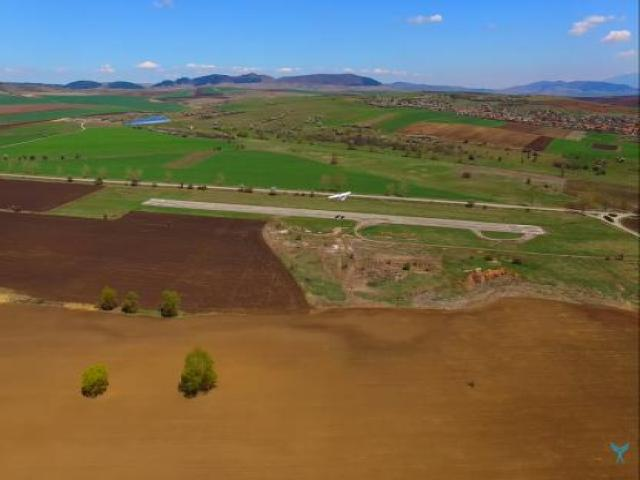uav: (322, 183, 356, 206)
